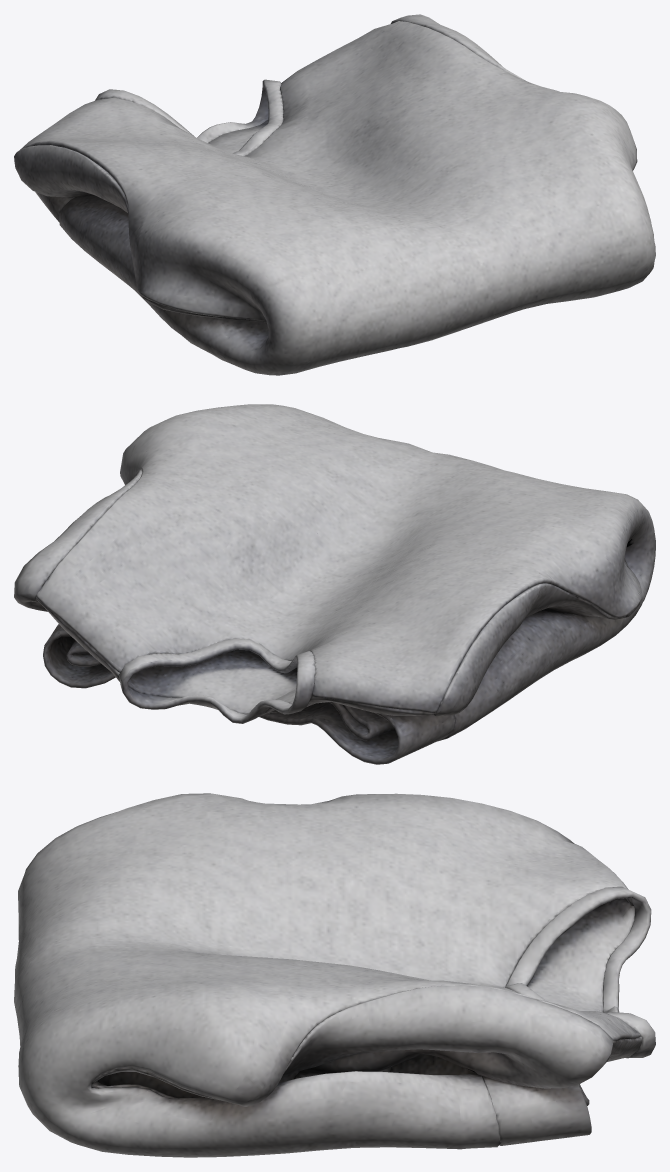
The model's file is Product_TopA_0.4x0.1x0.4.glb.
The picture shows the model from 3 angles, top to bottom: view 1: azimuth 30°, elevation 25°; view 2: azimuth 150°, elevation 25°; view 3: azimuth 270°, elevation 25°; orthographic projection. The views are drawn at different scales.
Visible parts, largest first — view 1: Sweater_fold; view 2: Sweater_fold; view 3: Sweater_fold.
Boxes of the visible parts, bbox=[...] form: Sweater_fold: bbox=[14, 14, 655, 375]; Sweater_fold: bbox=[14, 404, 655, 764]; Sweater_fold: bbox=[14, 793, 655, 1157].
Size of the model in its own units: 0.3751 by 0.1023 by 0.3685.
Materials: 1 (1 with a texture image).
